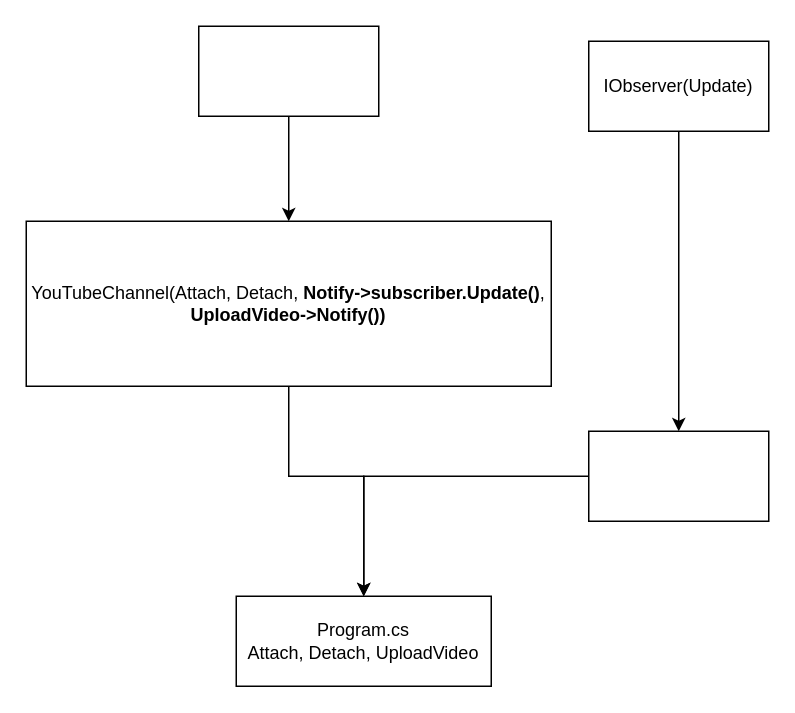
Some shapes in this 795 by 713 pixel diagram are drawn without their labels. The centre of each missing label's shape, as x and y in pixels:
"ISubject (Attach, Detach, Notify)" goes at (x=288, y=70).
"Subscriber(Update)" goes at (x=678, y=475).
